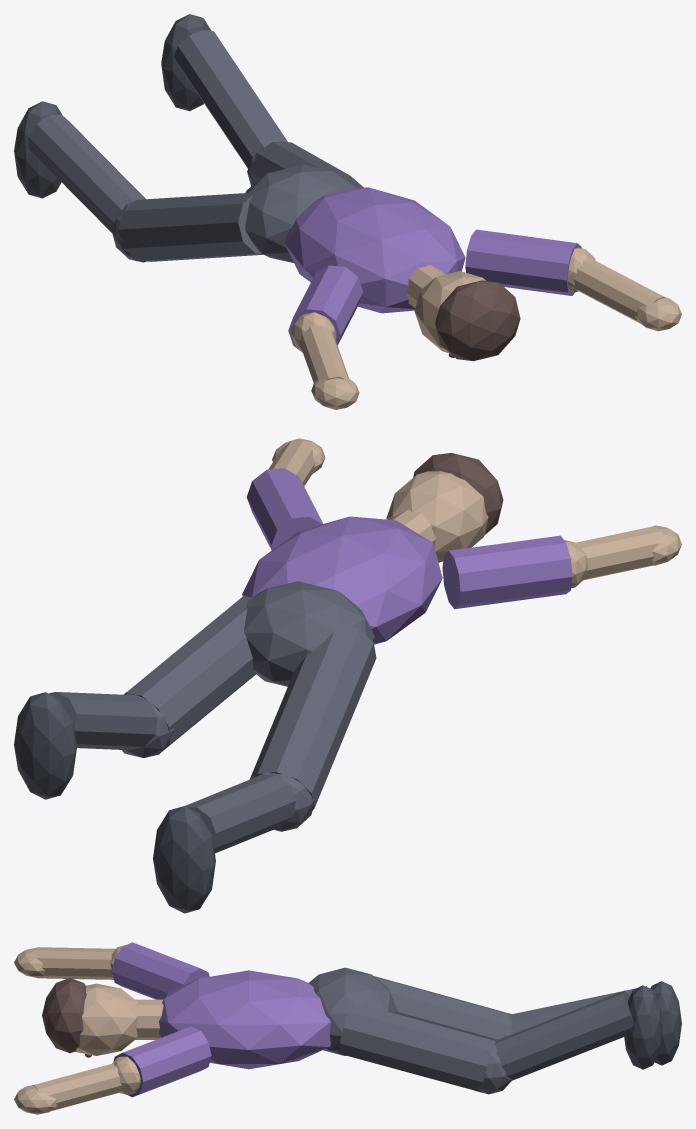
The picture shows the model from 3 angles, top to bottom: view 1: azimuth 30°, elevation 25°; view 2: azimuth 150°, elevation 25°; view 3: azimuth 270°, elevation 25°; orthographic projection. The views are drawn at different scales.
Parts seen in each view (by area): view 1: world; view 2: world; view 3: world.
Boxes of the visible parts, x1,y1,x2,y2 form: world: (14,14,681,409); world: (14,438,681,913); world: (14,942,681,1114).
Size of the model in its own units: 1.17 by 0.4905 by 2.15.
